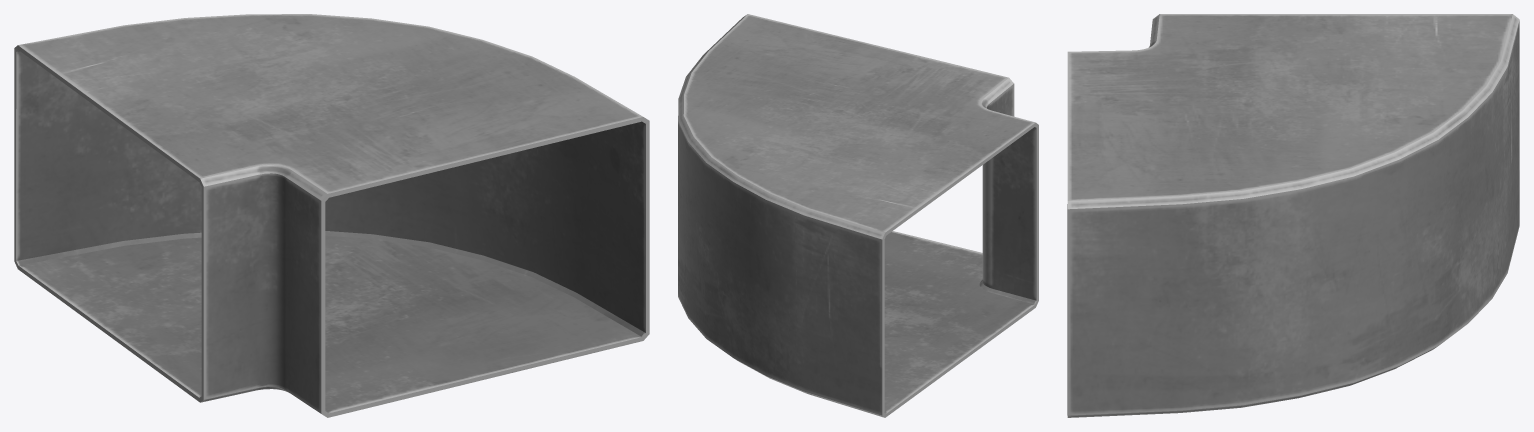
File: SM_Channel2.fbx
The picture shows the model from 3 angles, left to right: view 1: azimuth 30°, elevation 25°; view 2: azimuth 150°, elevation 25°; view 3: azimuth 270°, elevation 25°; orthographic projection. The views are drawn at different scales.
Parts seen in each view (by area): view 1: SM_Channel2_LOD0; view 2: SM_Channel2_LOD0; view 3: SM_Channel2_LOD0.
Boxes of the visible parts, x1,y1,x2,y2 form: SM_Channel2_LOD0: (14,14,649,417); SM_Channel2_LOD0: (678,14,1038,417); SM_Channel2_LOD0: (1067,14,1519,417).
Bounding box in the file's own units: 99.22 × 99.79 × 52.79.
1 material, 1 textured.
